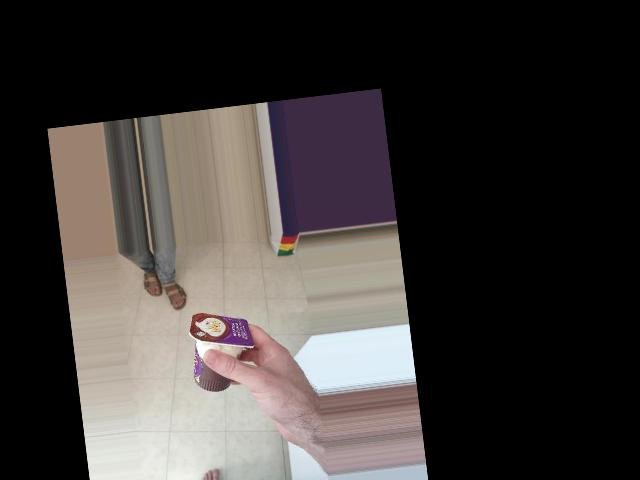milky: (145, 301, 242, 371)
